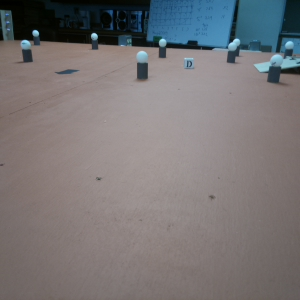blockD: (183, 57, 194, 70)
corner: (1, 10, 14, 38)
obstacle: (267, 55, 282, 83), (136, 52, 148, 80), (20, 40, 33, 62), (158, 38, 166, 58), (285, 41, 294, 58), (228, 43, 236, 62), (91, 32, 98, 50), (32, 29, 39, 45)
start: (55, 67, 78, 76)
